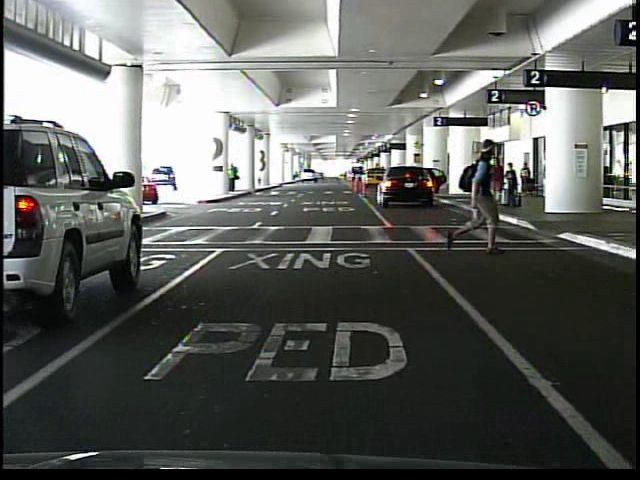person: (433, 140, 511, 256), (487, 158, 505, 206), (505, 162, 521, 208), (520, 162, 531, 197), (228, 164, 238, 195)
